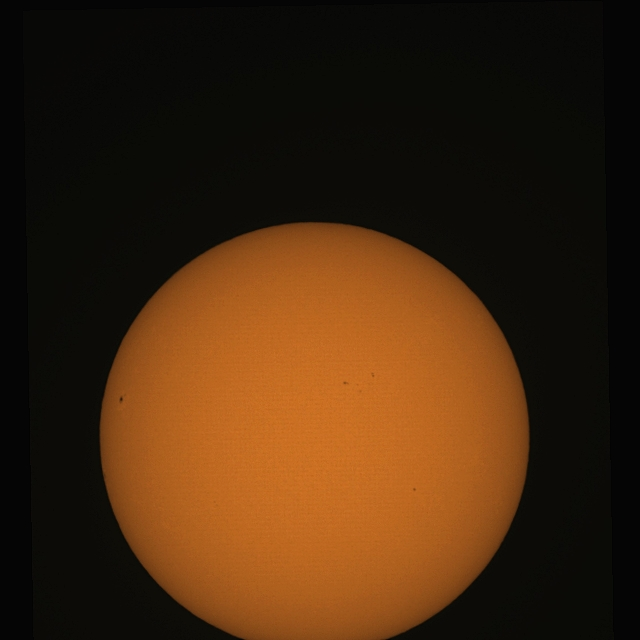sunspot: (118, 393, 126, 404), (356, 386, 363, 394), (342, 380, 350, 386), (370, 371, 376, 378), (412, 487, 417, 492)
